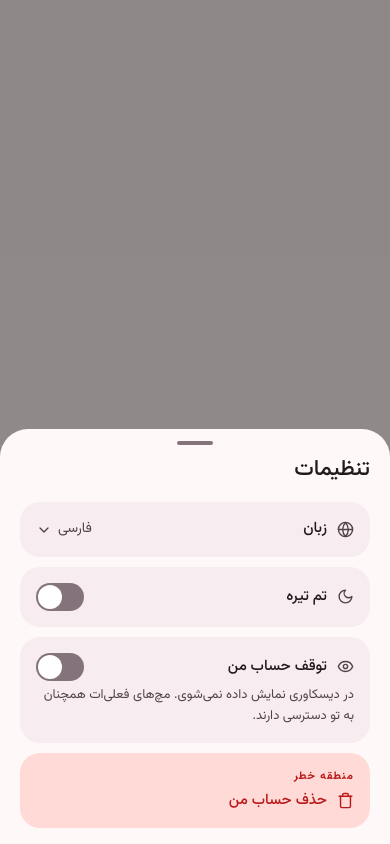
Test: SettingsSheet › shows the reason survey after "Delete account"; Continue is disabled until a reason is picked
Click the text "حذف حساب من": (291, 800) x1=229 y1=788 x2=354 y2=812
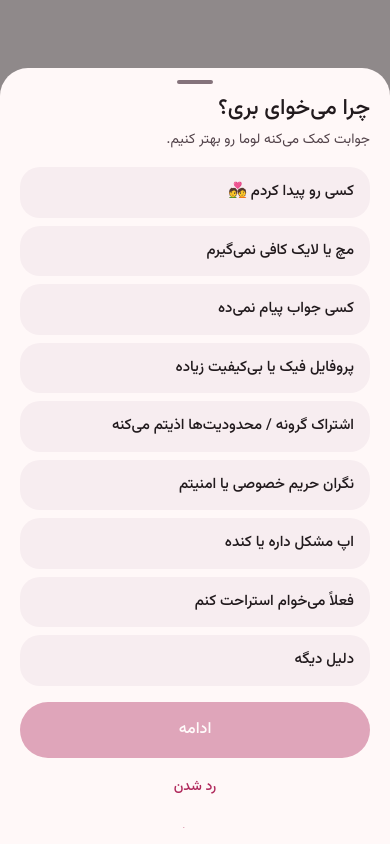
Expected: the heading "چرا می‌خوای بری؟" is shown, x1=218 y1=90 x2=370 y2=126
Expected: the number of radio buttons is 9
Expected: the button "ادامه" is disabled, x1=20 y1=702 x2=370 y2=758
Click the radio button labelled "اپ مشکل داره یا کنده": (289, 543) x1=20 y1=518 x2=370 y2=569
(page scrolled)
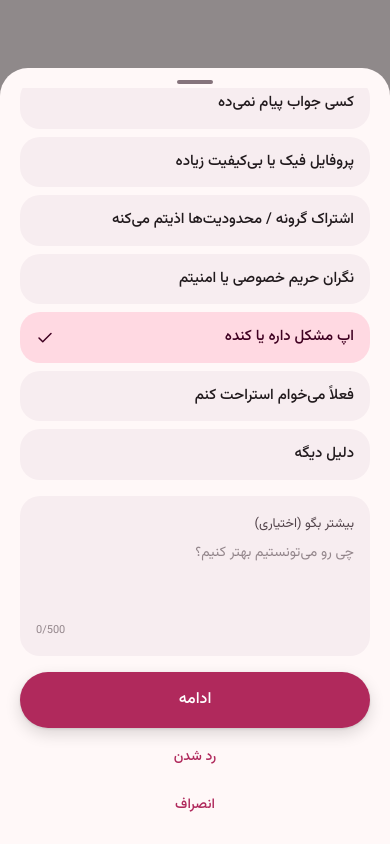
Expected: the button "ادامه" is enabled, x1=20 y1=672 x2=370 y2=728
// Cancel on the survey returns to the menu.
Click the button "انصراف": (195, 806) x1=20 y1=784 x2=370 y2=828
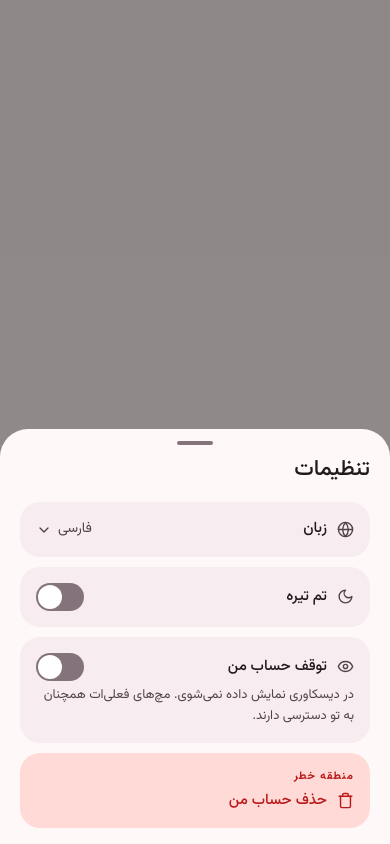
Expected: the text "حذف حساب من" is shown, x1=229 y1=788 x2=354 y2=812
